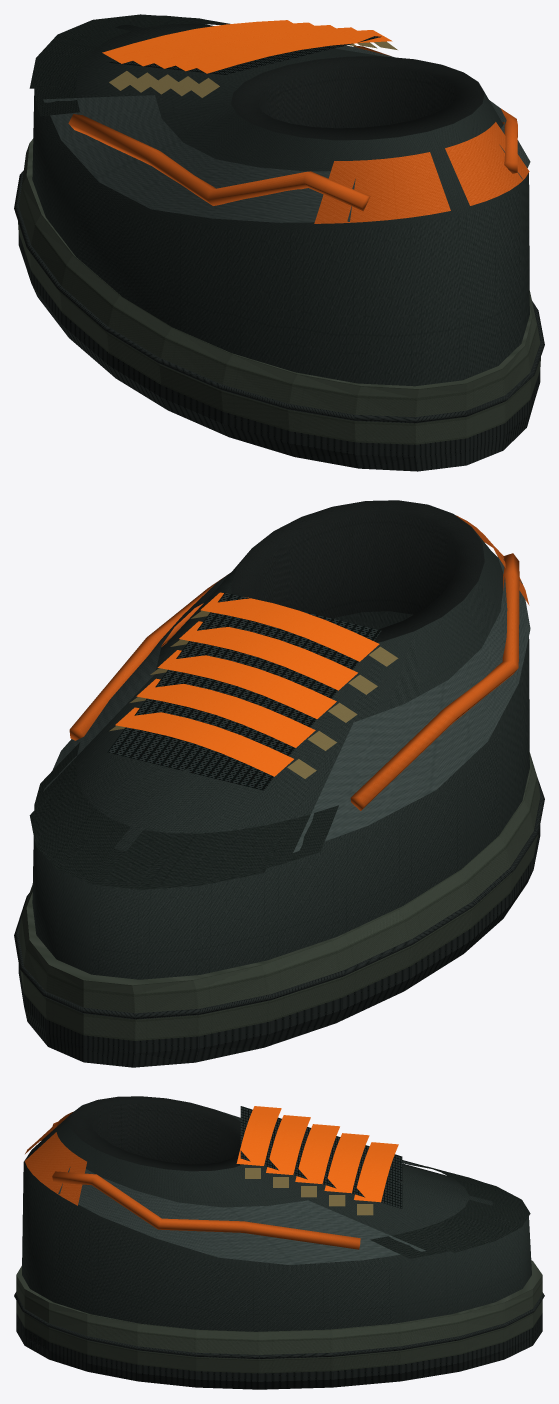
The model's file is SB_SHOES_01.fbx.
3 views of the same model, one above another, from view 1: azimuth 30°, elevation 25°; view 2: azimuth 150°, elevation 25°; view 3: azimuth 270°, elevation 25° (orthographic). The views are drawn at different scales.
Parts seen in each view (by area): view 1: Tênis — cabedal com abertura.001, Sola — entressola com quina.001, Tênis — colarinho acolchoado e forro.001, Tênis — painel lateral de material.002, Sola — borracha de contato.001, Tênis — reforço traseiro.002, Tênis — recorte skate contrastante, Sola — filete skate, Tênis — recorte da biqueira.002, Tênis — reforço traseiro.003, Cadarço.005, Cadarço.008 (+8 smaller); view 2: Tênis — cabedal com abertura.001, Sola — entressola com quina.001, Tênis — colarinho acolchoado e forro.001, Tênis — painel lateral de material.002, Tênis — língua larga.001, Sola — borracha de contato.001, Tênis — recorte da biqueira.002, Tênis — recorte da biqueira.003, Tênis — recorte skate contrastante, Sola — filete skate, Cadarço.009, Cadarço.008 (+6 smaller); view 3: Tênis — cabedal com abertura.001, Sola — entressola com quina.001, Tênis — painel lateral de material.003, Tênis — colarinho acolchoado e forro.001, Sola — borracha de contato.001, Tênis — recorte da biqueira.003, Tênis — recorte skate contrastante.001, Sola — filete skate, Tênis — língua larga.001, Tênis — reforço traseiro.003, Cadarço.009, Cadarço.008 (+5 smaller).
Part boxes in pixels (x1,y1,x2,y2): Tênis — cabedal com abertura.001: [32, 23, 529, 386]; Sola — entressola com quina.001: [18, 138, 540, 444]; Tênis — colarinho acolchoado e forro.001: [231, 56, 484, 140]; Tênis — painel lateral de material.002: [43, 95, 355, 222]; Sola — borracha de contato.001: [18, 233, 540, 471]; Tênis — reforço traseiro.002: [314, 152, 450, 223]; Tênis — recorte skate contrastante: [68, 114, 370, 211]; Sola — filete skate: [14, 171, 544, 423]; Tênis — recorte da biqueira.002: [34, 22, 129, 116]; Tênis — reforço traseiro.003: [445, 122, 529, 205]; Cadarço.005: [187, 30, 392, 73]; Cadarço.008: [123, 22, 314, 66]; Tênis — cabedal com abertura.001: [32, 529, 529, 979]; Sola — entressola com quina.001: [18, 752, 540, 1040]; Tênis — colarinho acolchoado e forro.001: [231, 500, 484, 642]; Tênis — painel lateral de material.002: [293, 555, 530, 852]; Tênis — língua larga.001: [107, 592, 381, 790]; Sola — borracha de contato.001: [18, 825, 540, 1067]; Tênis — recorte da biqueira.002: [103, 805, 338, 884]; Tênis — recorte da biqueira.003: [34, 742, 130, 877]; Tênis — recorte skate contrastante: [350, 553, 519, 810]; Sola — filete skate: [14, 777, 544, 1019]; Cadarço.009: [115, 707, 293, 776]; Cadarço.008: [136, 678, 315, 747]; Tênis — cabedal com abertura.001: [22, 1110, 531, 1331]; Sola — entressola com quina.001: [16, 1260, 542, 1373]; Tênis — painel lateral de material.003: [58, 1167, 425, 1264]; Tênis — colarinho acolchoado e forro.001: [69, 1096, 242, 1171]; Sola — borracha de contato.001: [16, 1313, 542, 1389]; Tênis — recorte da biqueira.003: [370, 1199, 524, 1258]; Tênis — recorte skate contrastante.001: [52, 1171, 360, 1249]; Sola — filete skate: [14, 1292, 544, 1359]; Tênis — língua larga.001: [240, 1106, 402, 1208]; Tênis — reforço traseiro.003: [24, 1132, 86, 1205]; Cadarço.009: [354, 1142, 398, 1202]; Cadarço.008: [324, 1133, 369, 1193].
Bounding box in the file's own units: 47.34 × 37.2 × 85.25.
1 material, 1 textured.
